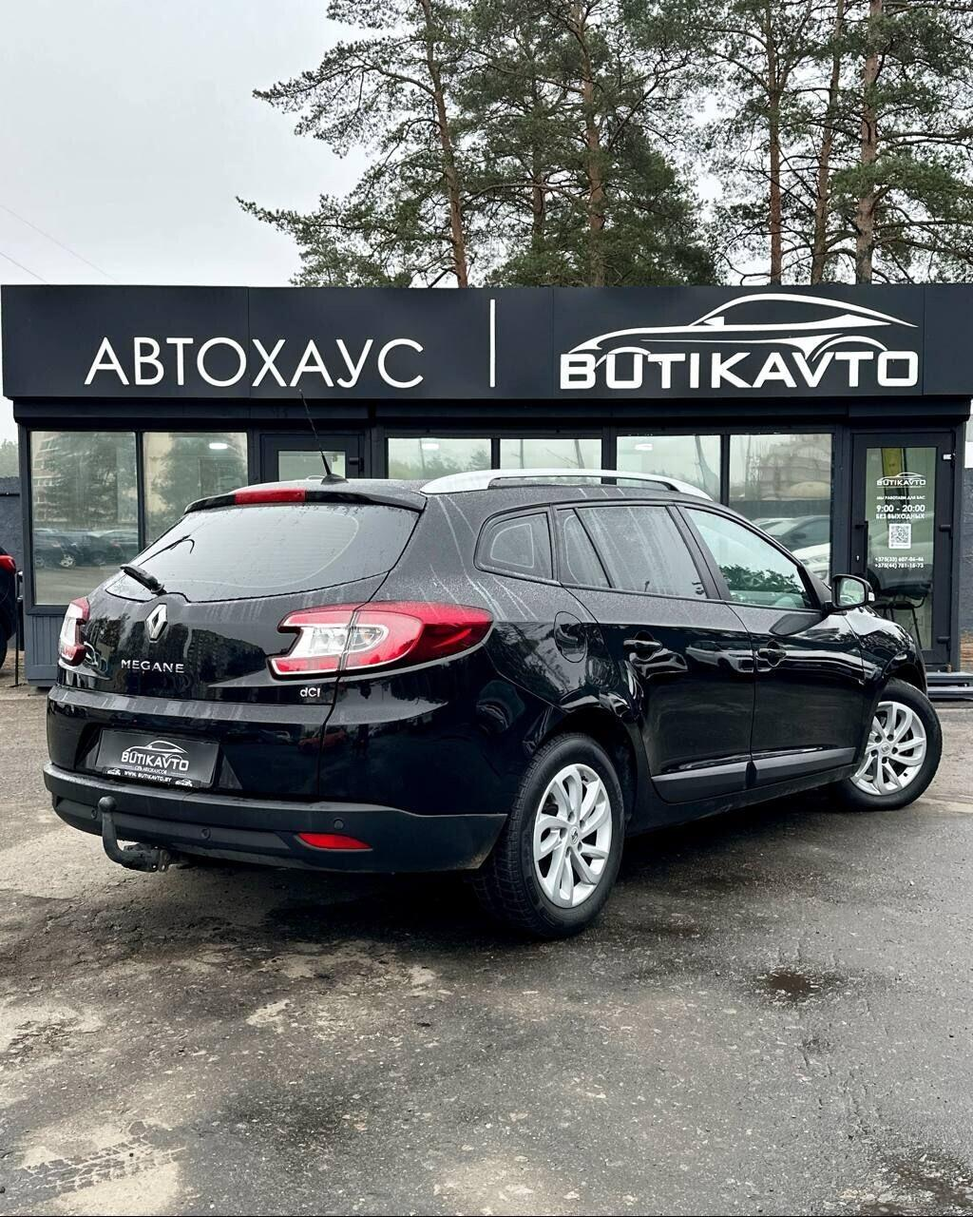Megane_2012-2014: (32, 472, 944, 938)
